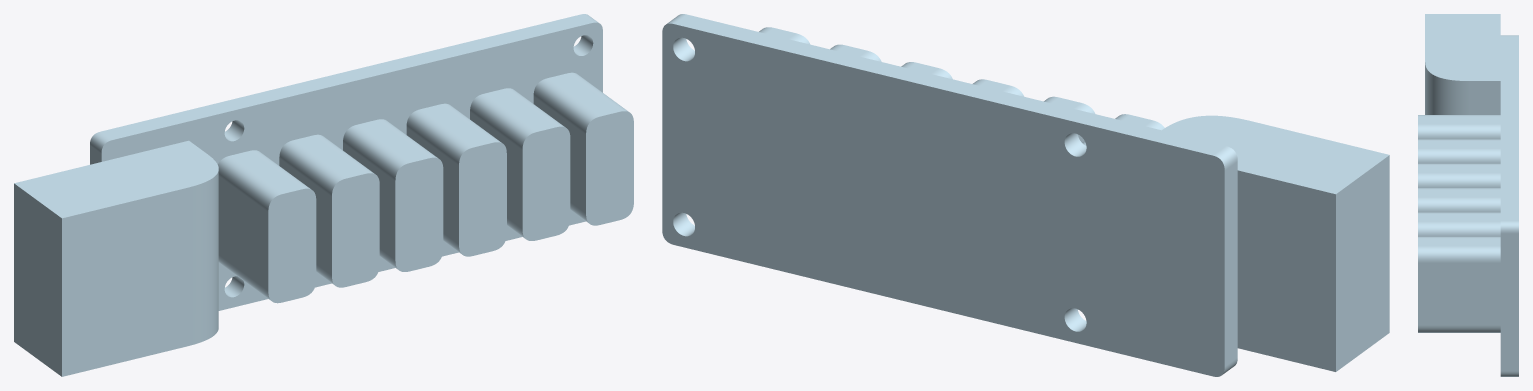
File: Robot_Master Copy 1 - Part 1 (2).gltf
3 views of the same model, side by side, from view 1: azimuth 30°, elevation 25°; view 2: azimuth 150°, elevation 25°; view 3: azimuth 270°, elevation 25° (orthographic). The views are drawn at different scales.
Parts seen in each view (by area): view 1: Part 1; view 2: Part 1; view 3: Part 1.
Boxes of the visible parts, left/top/right/bottom form: Part 1: left=14, top=14, right=633, bottom=376; Part 1: left=662, top=14, right=1389, bottom=376; Part 1: left=1418, top=14, right=1518, bottom=376.
Bounding box in the file's own units: 0.0603 × 0.0192 × 0.0114.
